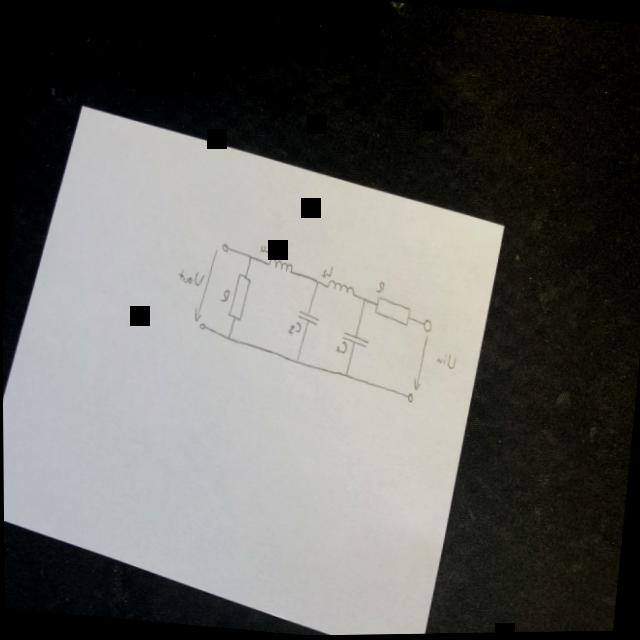capacitor: (338, 329, 369, 349), (295, 310, 318, 327)
inductor: (323, 277, 355, 297), (263, 255, 293, 274)
junction: (245, 253, 254, 262), (340, 369, 348, 379), (359, 294, 367, 303), (312, 277, 320, 286), (292, 356, 300, 365), (222, 332, 230, 341)
resistor: (371, 294, 412, 327), (226, 271, 251, 323)
terminal: (418, 318, 431, 333), (400, 388, 413, 403), (219, 239, 232, 254), (196, 320, 209, 332)
text: (176, 268, 203, 286), (432, 352, 456, 370), (332, 339, 348, 354), (285, 320, 300, 335), (319, 264, 332, 279), (218, 287, 229, 302), (258, 241, 271, 253), (373, 280, 384, 293)
